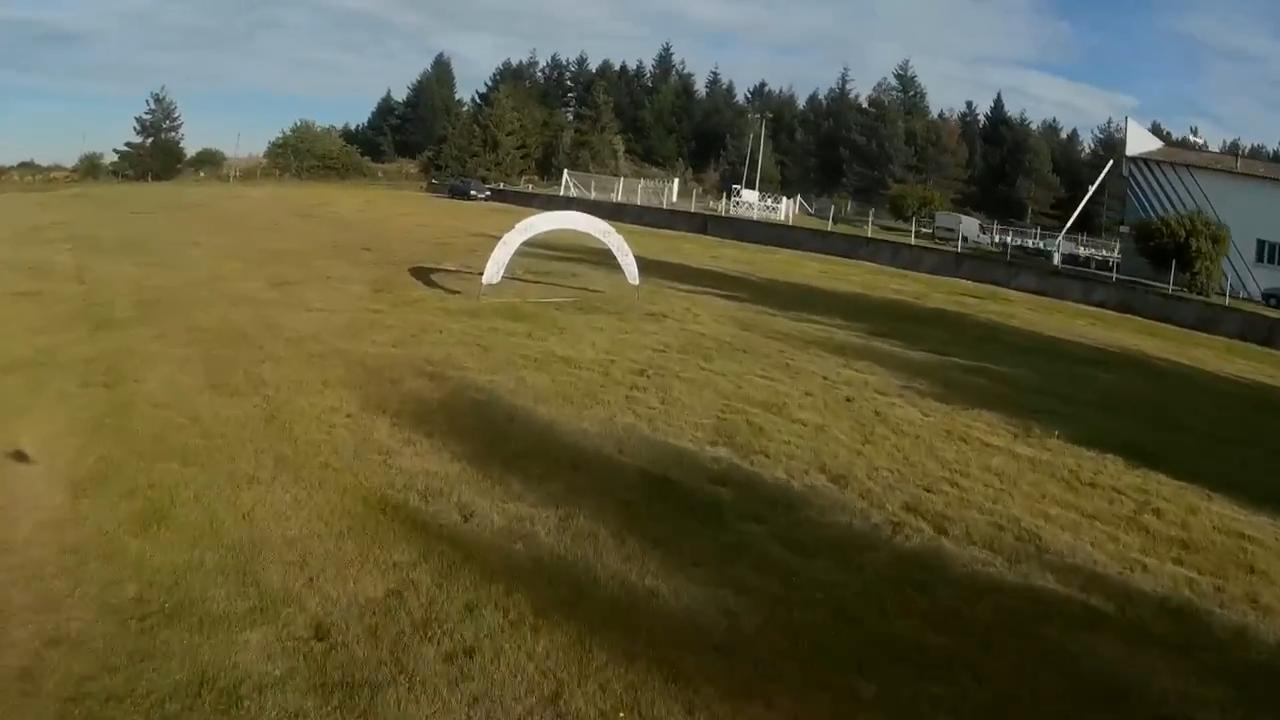gate: (478, 207, 639, 286)
